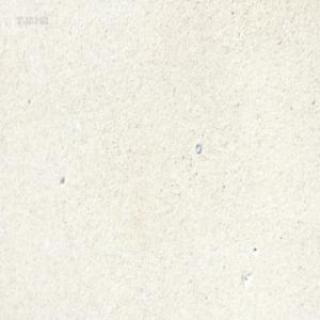Washertrack_idkeyframe: (193, 142, 200, 153)
